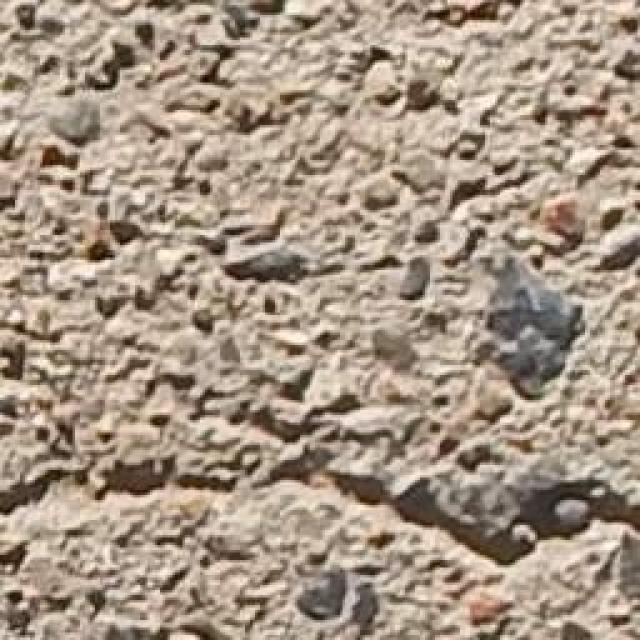concrete-crack: (1, 392, 640, 596)
